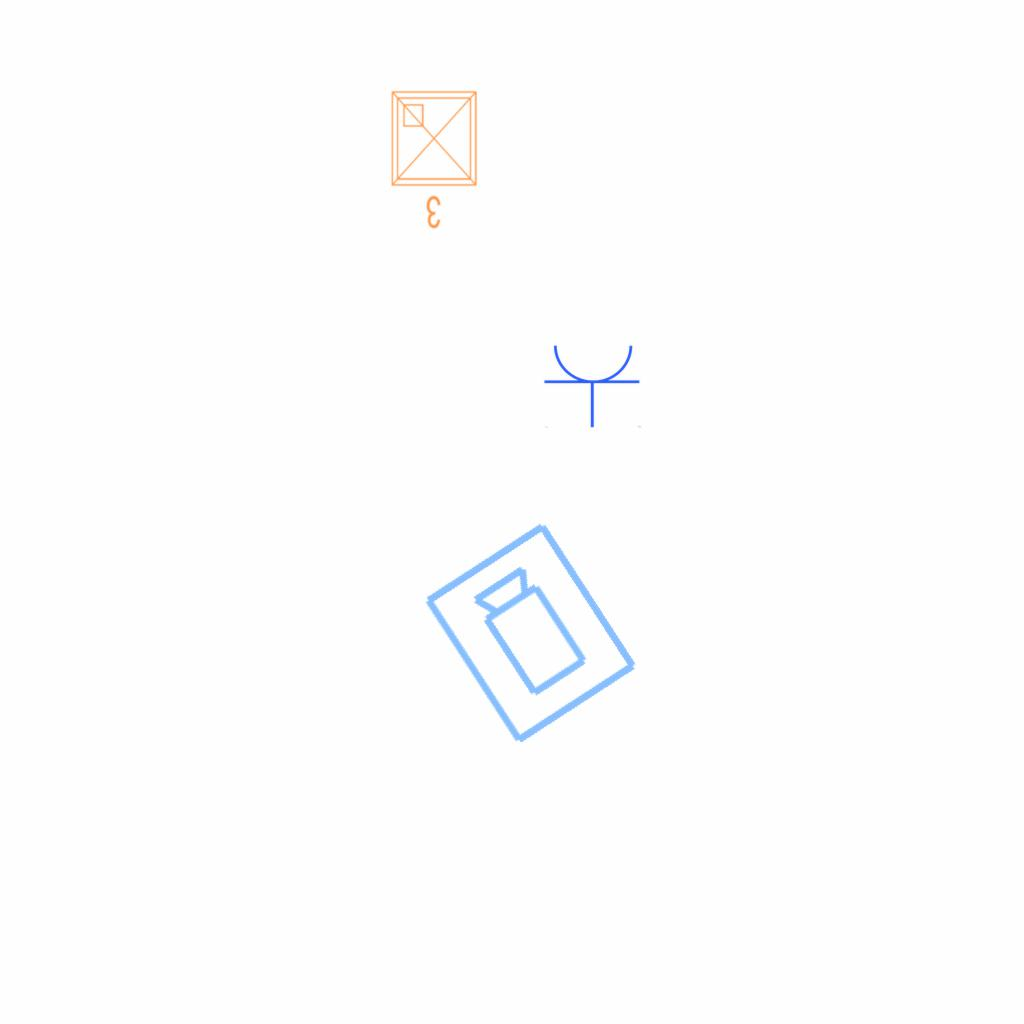Einbaudownlights_LED_Konferenzraeume: (384, 84, 488, 234)
KFO_Kamera_mit_Festobjektiv: (417, 514, 647, 752)
Schukosteckdose_einfach: (543, 341, 643, 428)
